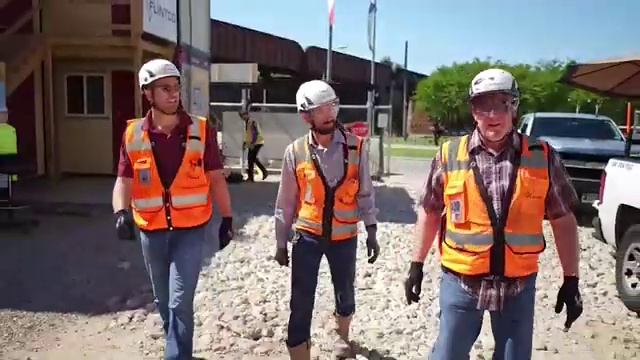helmet: (466, 67, 540, 100), (287, 73, 347, 109), (134, 56, 187, 88)
jacket: (440, 130, 548, 283), (113, 107, 228, 237), (286, 127, 368, 254)
